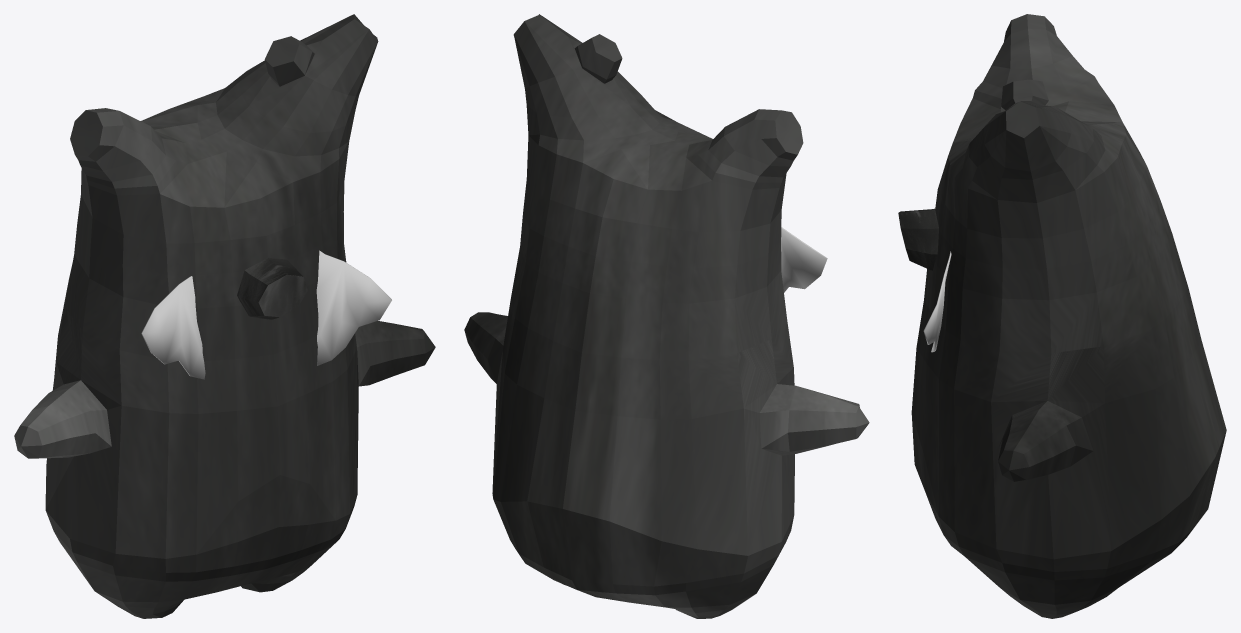
The model's file is frame_0017.obj.
The picture shows the model from 3 angles, left to right: view 1: azimuth 30°, elevation 25°; view 2: azimuth 150°, elevation 25°; view 3: azimuth 270°, elevation 25°; orthographic projection. The views are drawn at different scales.
Parts seen in each view (by area): view 1: korok, leaf, nose; view 2: korok, leaf; view 3: korok, nose, leaf.
Part boxes in pixels (x1,y1,x2,y2): korok: [14, 14, 435, 618]; leaf: [141, 250, 391, 379]; nose: [237, 257, 307, 319]; korok: [464, 14, 869, 618]; leaf: [781, 227, 827, 292]; korok: [911, 14, 1226, 618]; nose: [898, 208, 938, 270]; leaf: [923, 251, 951, 352].
Size of the model in its own units: 1.72 by 2.25 by 1.22.
